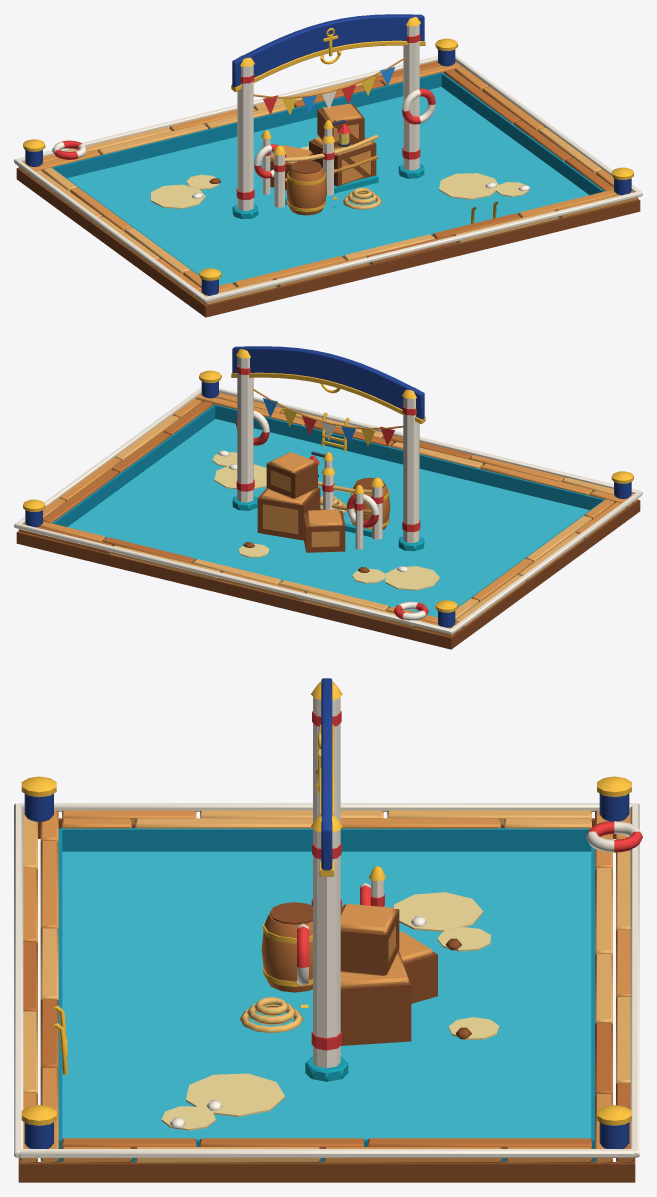
Rendered from boat-deck.glb.
3 views of the same model, one above another, from view 1: azimuth 30°, elevation 25°; view 2: azimuth 150°, elevation 25°; view 3: azimuth 270°, elevation 25° (orthographic). The views are drawn at different scales.
Visible parts, largest first — view 1: pond_frame, boat_gate, deck_cargo, rail, rail_post, deck_lantern; view 2: pond_frame, boat_gate, deck_cargo, rail, rail_post; view 3: pond_frame, deck_cargo, boat_gate.
Boxes of the visible parts, box(x1,y1,x2,y2) form: pond_frame: box(14, 38, 642, 317); boat_gate: box(231, 14, 435, 219); deck_cargo: box(254, 103, 381, 215); rail: box(273, 134, 378, 207); rail_post: box(321, 135, 336, 195); deck_lantern: box(323, 119, 350, 146); pond_frame: box(14, 370, 642, 649); boat_gate: box(231, 346, 425, 551); deck_cargo: box(257, 452, 390, 552); rail: box(318, 477, 383, 539); rail_post: box(321, 467, 335, 509); pond_frame: box(14, 776, 642, 1182); deck_cargo: box(239, 866, 437, 1045); boat_gate: box(297, 678, 348, 1081).
Size of the model in its own units: 9 by 3.45 by 6.83.
